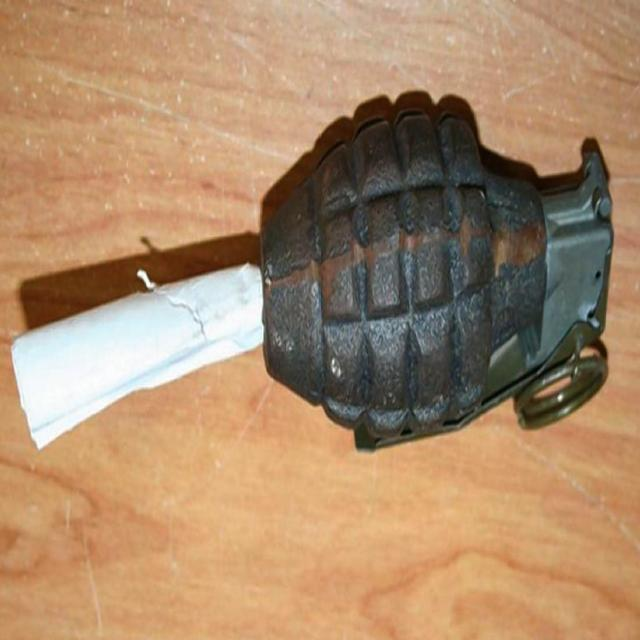grenade: (261, 110, 614, 458)
